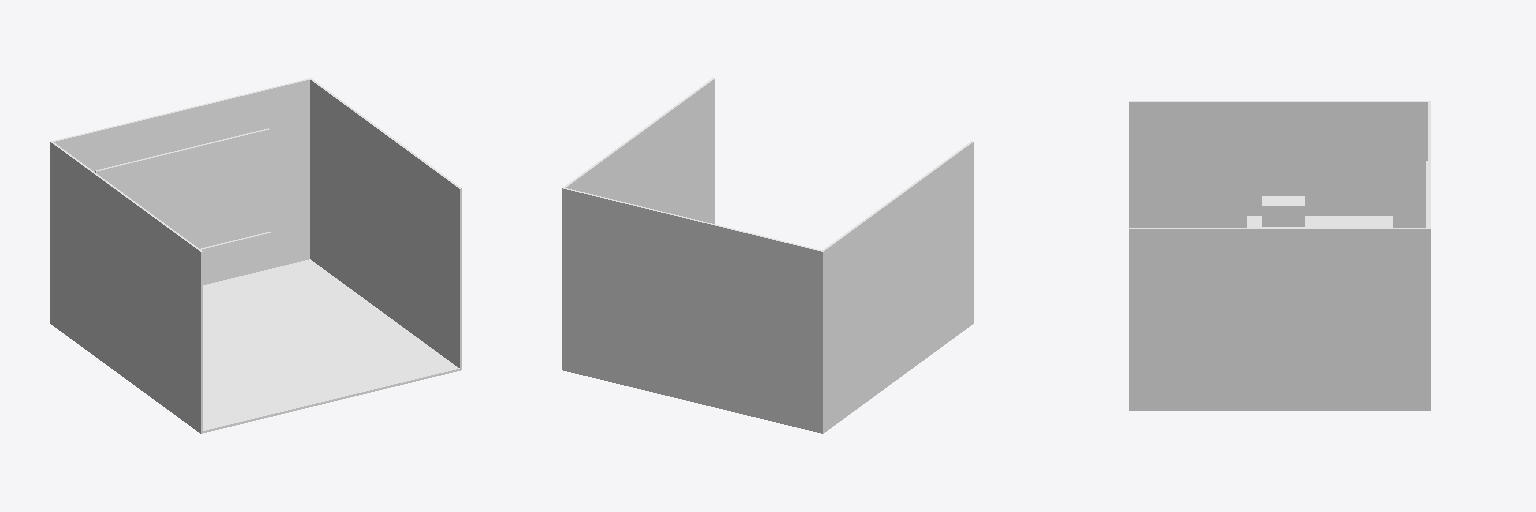
The model's file is classroom.obj.
The picture shows the model from 3 angles: view 1: azimuth 30°, elevation 25°; view 2: azimuth 150°, elevation 25°; view 3: azimuth 270°, elevation 25°; orthographic projection.
Visible parts, largest first — view 1: object 1; view 2: object 1; view 3: object 1.
Boxes of the visible parts, box(x1,y1,x2,y2) form: object 1: box(50, 78, 461, 433); object 1: box(562, 78, 973, 433); object 1: box(1129, 101, 1430, 410).
Size of the model in its own units: 12 by 8 by 12.